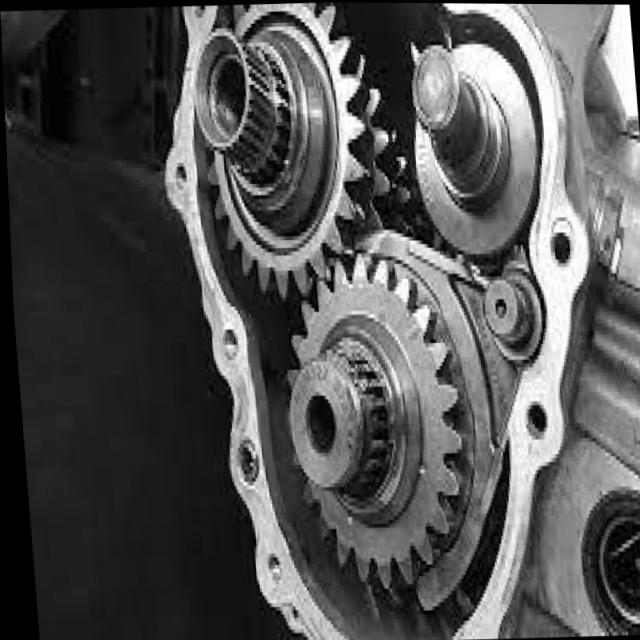No Fault: (253, 246, 524, 640), (175, 5, 414, 326), (276, 225, 380, 328)
